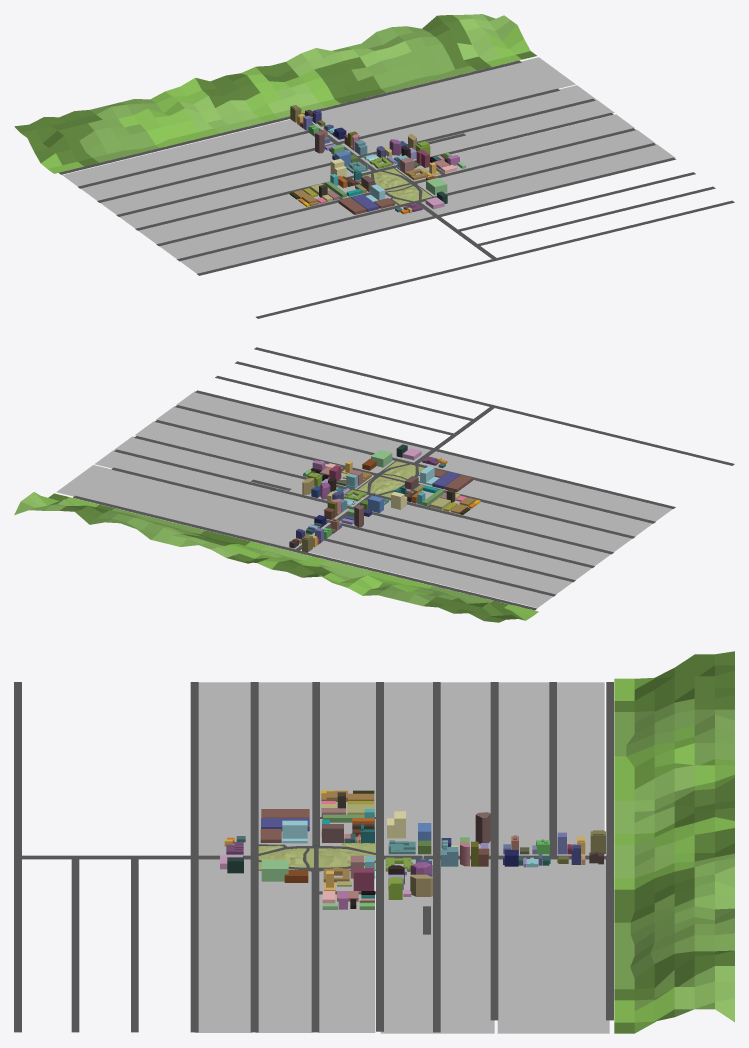
File: cityTest_02_01.fbx
3 renders of one model, top to bottom at view 1: azimuth 30°, elevation 25°; view 2: azimuth 150°, elevation 25°; view 3: azimuth 270°, elevation 25°, orthographic. The views are drawn at different scales.
Visible parts, largest first — view 1: hills_geo, pavement6, pavement9, pavement15, pavement8, pavement14, pavement13, pavement16, pavement2, pavement5, pavement12, pavement10 (+23 smaller); view 2: hills_geo, pavement6, pavement15, pavement9, pavement14, pavement8, pavement5, pavement13, pavement16, pavement2, pavement12, pavement10 (+23 smaller); view 3: hills_geo, pavement6, pavement15, pavement9, pavement8, pavement5, pavement14, pavement2, pavement13, pavement16, pavement3, pavement10 (+28 smaller).
Part boxes in pixels (bbox=[...]): hills_geo: bbox=[14, 14, 536, 173]; pavement6: bbox=[320, 70, 575, 141]; pavement9: bbox=[180, 203, 432, 273]; pavement15: bbox=[312, 57, 556, 128]; pavement8: bbox=[421, 144, 675, 214]; pavement14: bbox=[81, 133, 333, 200]; pavement13: bbox=[100, 149, 333, 214]; pavement16: bbox=[62, 119, 307, 186]; pavement2: bbox=[417, 129, 655, 196]; pavement5: bbox=[341, 85, 595, 155]; pavement12: bbox=[120, 161, 370, 228]; pavement10: bbox=[159, 194, 397, 258]; hills_geo: bbox=[14, 492, 538, 622]; pavement6: bbox=[74, 465, 330, 535]; pavement15: bbox=[56, 479, 301, 549]; pavement9: bbox=[419, 451, 672, 521]; pavement14: bbox=[327, 526, 572, 594]; pavement8: bbox=[176, 391, 430, 462]; pavement5: bbox=[94, 450, 349, 520]; pavement13: bbox=[339, 514, 591, 580]; pavement16: bbox=[301, 540, 552, 607]; pavement2: bbox=[156, 406, 394, 473]; pavement12: bbox=[372, 500, 610, 565]; pavement10: bbox=[418, 476, 652, 536]; hills_geo: bbox=[614, 651, 734, 1033]; pavement6: bbox=[497, 859, 554, 1033]; pavement15: bbox=[552, 859, 609, 1033]; pavement9: bbox=[198, 682, 250, 855]; pavement8: bbox=[195, 859, 251, 1032]; pavement5: bbox=[437, 859, 494, 1033]; pavement14: bbox=[498, 682, 549, 855]; pavement2: bbox=[255, 870, 312, 1032]; pavement13: bbox=[440, 682, 490, 855]; pavement16: bbox=[557, 682, 604, 855]; pavement3: bbox=[318, 871, 375, 1032]; pavement10: bbox=[258, 682, 312, 846].
Bounding box in the file's own units: 1498 × 77.44 × 1286.
